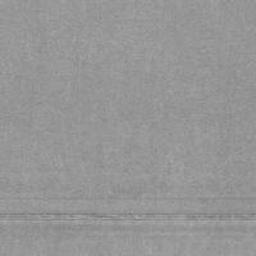Welding line: (0, 212, 256, 221)
